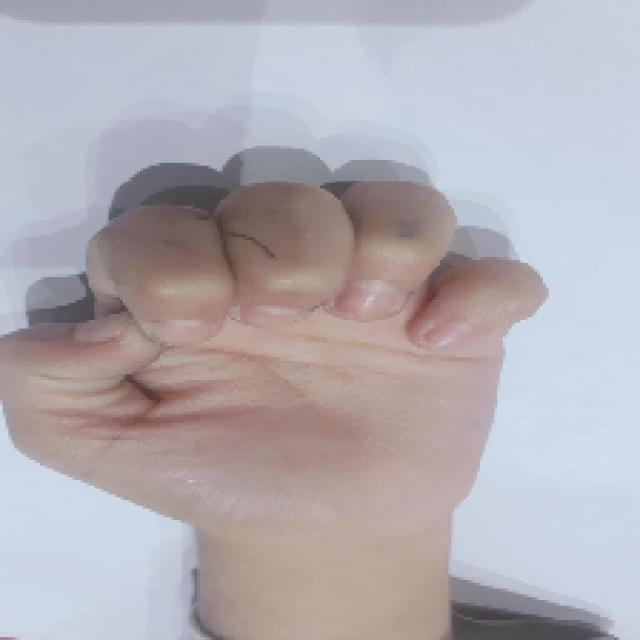Nail: (336, 280, 408, 320), (74, 315, 128, 341), (245, 305, 306, 328), (421, 328, 474, 352), (162, 319, 206, 345)
